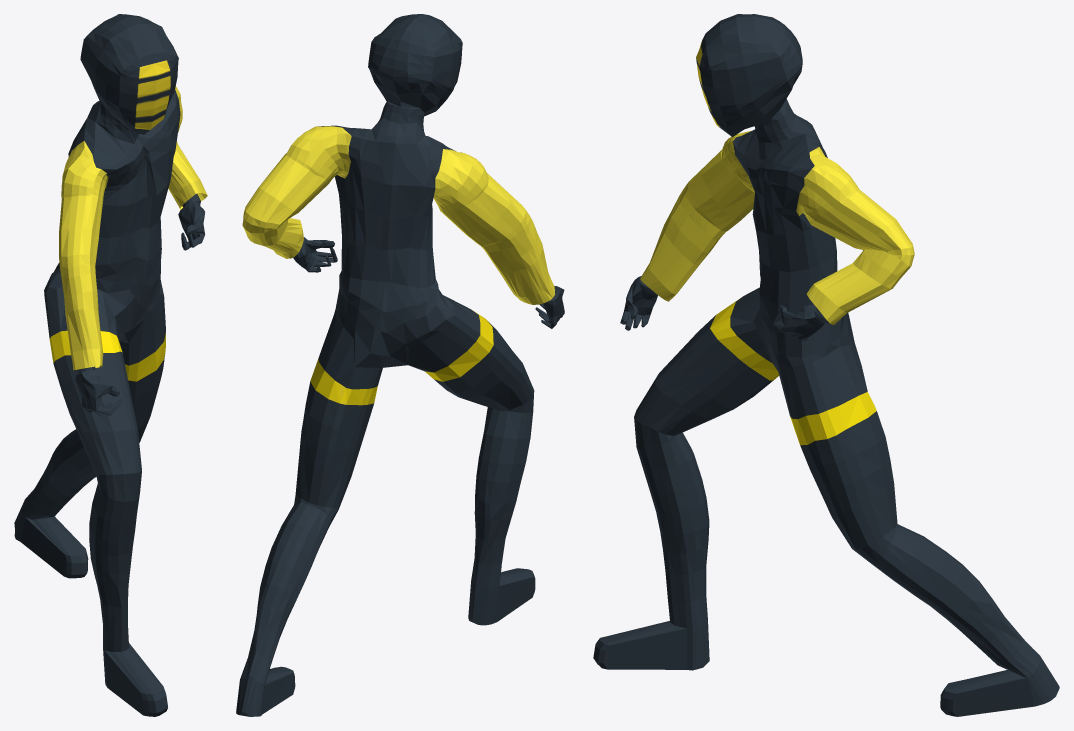
Rendered from Sentry_Stun_000005.obj.
3 views of the same model, side by side, from view 1: azimuth 30°, elevation 25°; view 2: azimuth 150°, elevation 25°; view 3: azimuth 270°, elevation 25° (orthographic). The views are drawn at different scales.
Parts seen in each view (by area): view 1: Cube; view 2: Cube; view 3: Cube.
Part boxes in pixels (box(x1,y1,x2,y2)): Cube: box(14, 14, 207, 716); Cube: box(236, 14, 564, 716); Cube: box(593, 14, 1059, 716).
Size of the model in its own units: 1.24 by 3.55 by 2.23.
